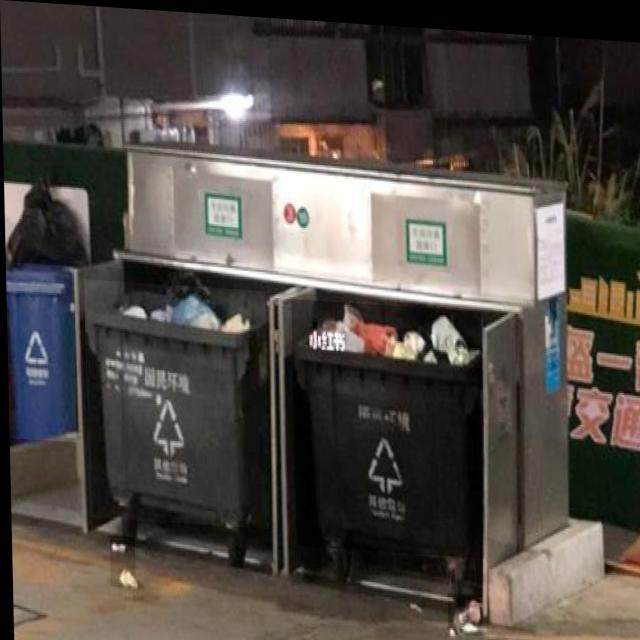garbage: (445, 587, 479, 630), (107, 534, 133, 586)
garbage_bin: (5, 262, 75, 441)
overflow: (290, 295, 484, 552), (83, 278, 268, 525)
